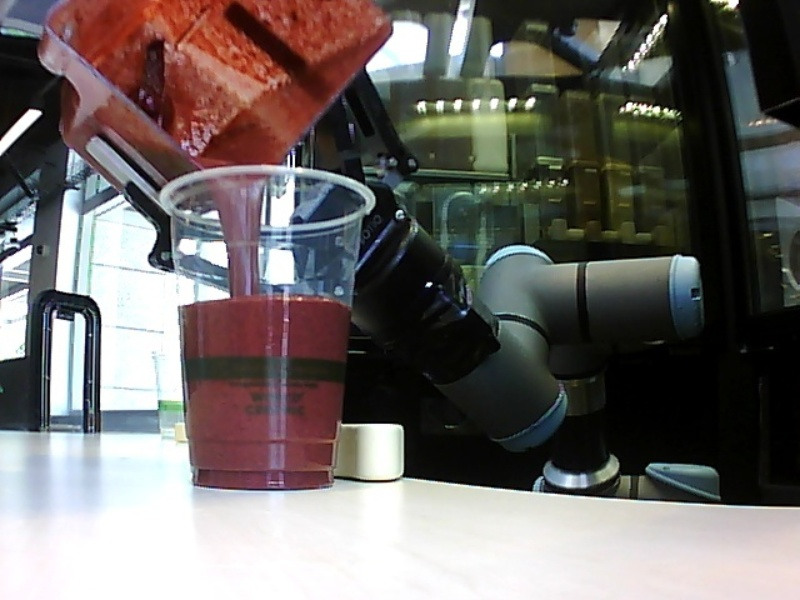cup: (157, 159, 378, 494)
limit: (174, 284, 353, 318)
